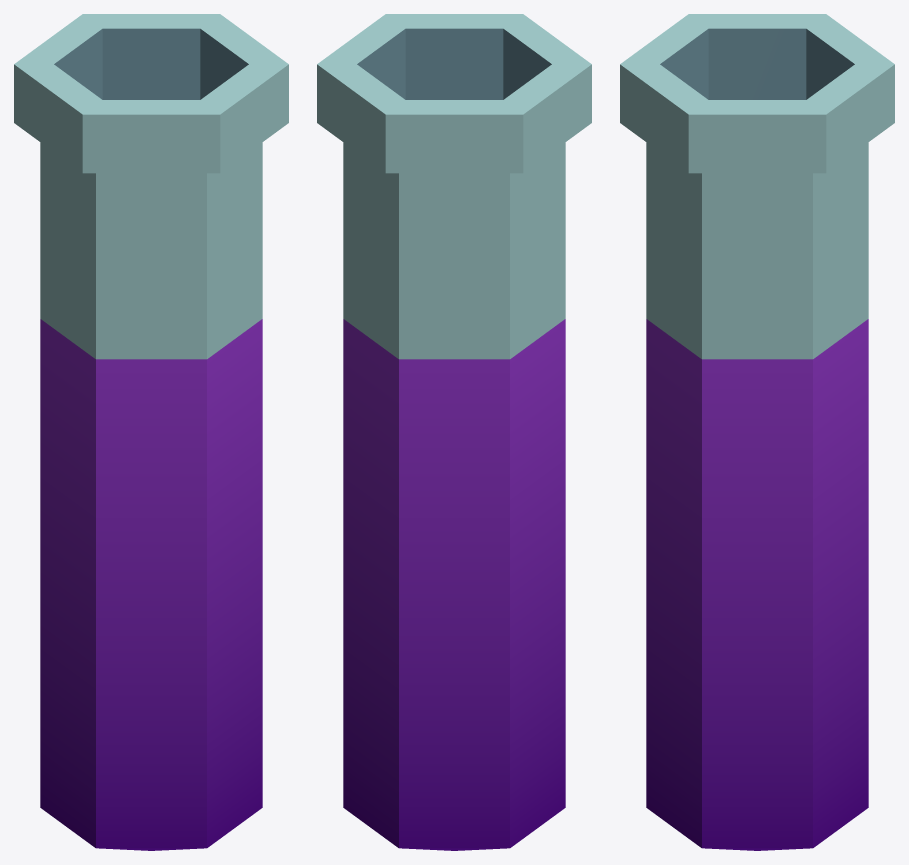
Rendered from antidoto.fbx.
3 views of the same model, side by side, from view 1: azimuth 30°, elevation 25°; view 2: azimuth 150°, elevation 25°; view 3: azimuth 270°, elevation 25° (orthographic).
Parts seen in each view (by area): view 1: Antidoto; view 2: Antidoto; view 3: Antidoto.
Boxes of the visible parts, x1=… form: Antidoto: x1=14, y1=14, x2=288, y2=850; Antidoto: x1=317, y1=14, x2=591, y2=850; Antidoto: x1=620, y1=14, x2=894, y2=850.
Size of the model in its own units: 23.52 by 85.76 by 27.16.
